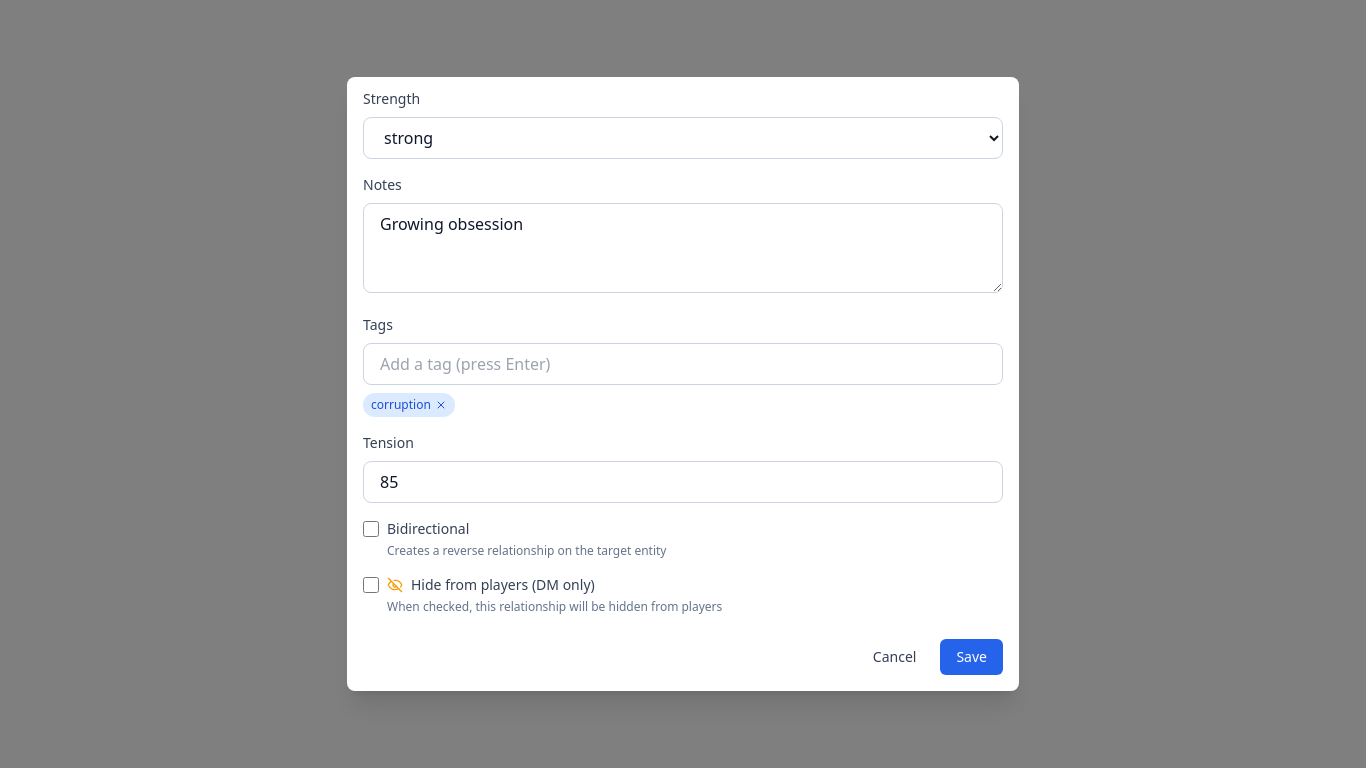
Test: EditRelationshipModal - Save Functionality › should handle save errors gracefully
(page scrolled)
Click the button "Save" at (972, 657), box top-left (940, 639), bottom-right (1003, 675)
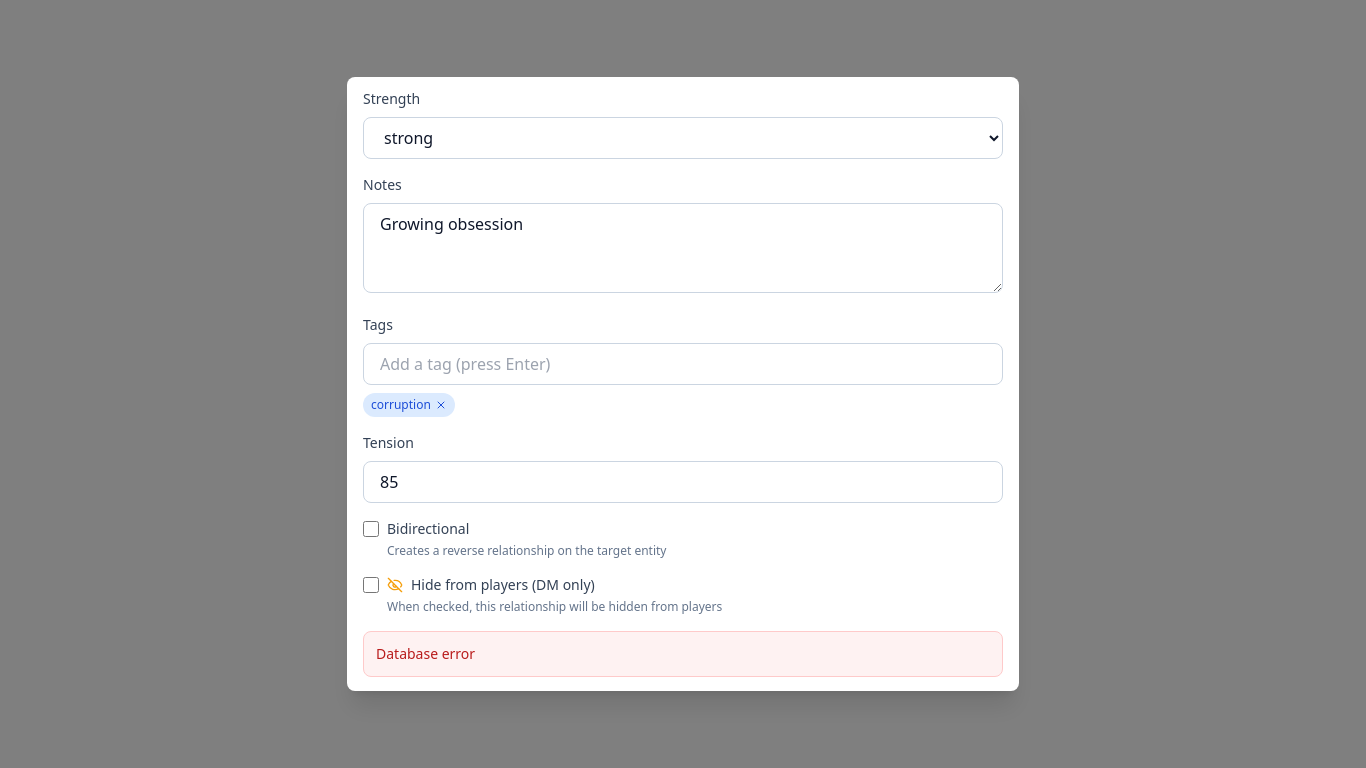
Expected: the text "Database error" is shown, top-left (363, 631), bottom-right (1003, 677)
